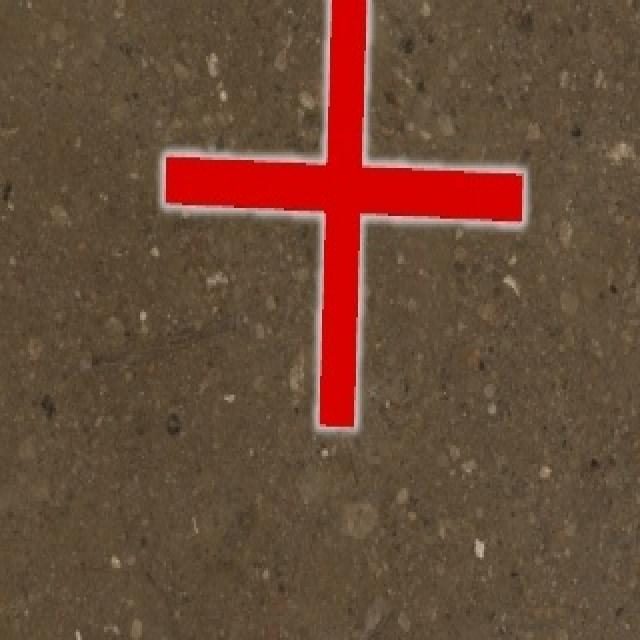x_marker: (163, 0, 523, 427)
